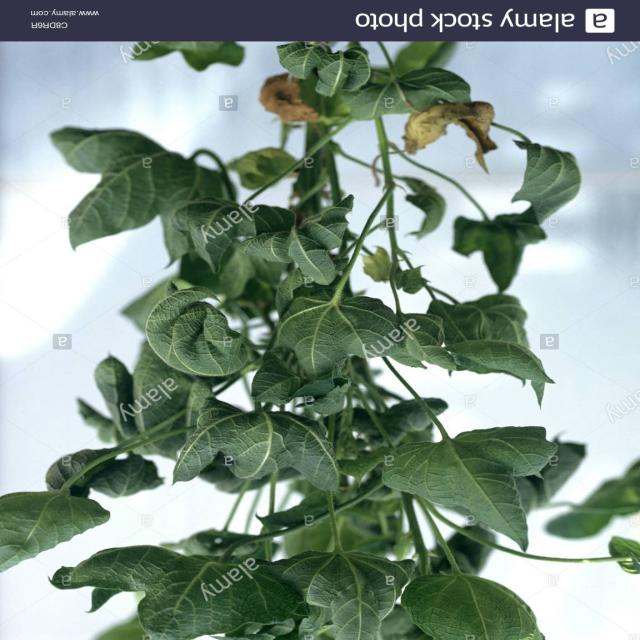Leaf Curl Virus: (38, 119, 540, 640)
